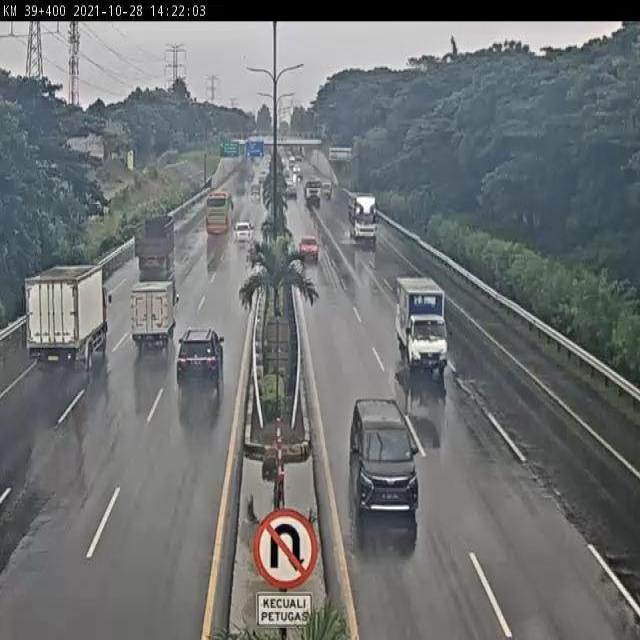ARABA: (348, 398, 420, 518), (175, 328, 227, 388), (297, 234, 320, 262), (233, 219, 255, 245)
KAMYONET: (392, 272, 451, 377), (129, 277, 179, 351)
OTOBUS: (203, 190, 235, 238)
TIR: (21, 260, 112, 372), (129, 212, 177, 272), (346, 191, 382, 249)
